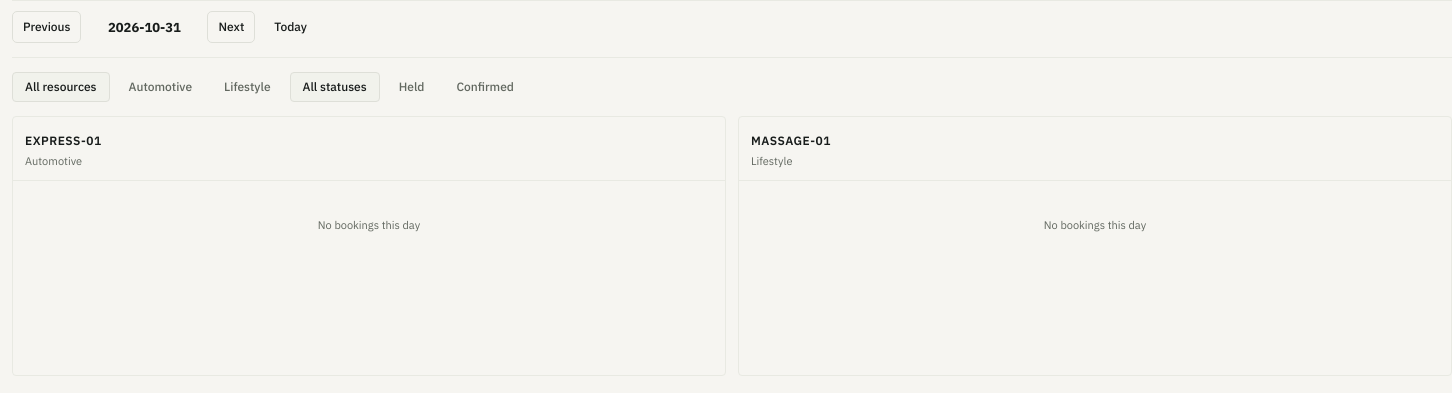
Test: shows idle resources and classifies massage as lifestyle
Expected: the text "EXPRESS-01" is shown, [25,133,102,148]
Expected: the text "No bookings this day" is shown 2 times, [318,218,420,232]; [1044,218,1146,232]
Click the button "Lifestyle" at (247, 87), box [211,72,284,102]
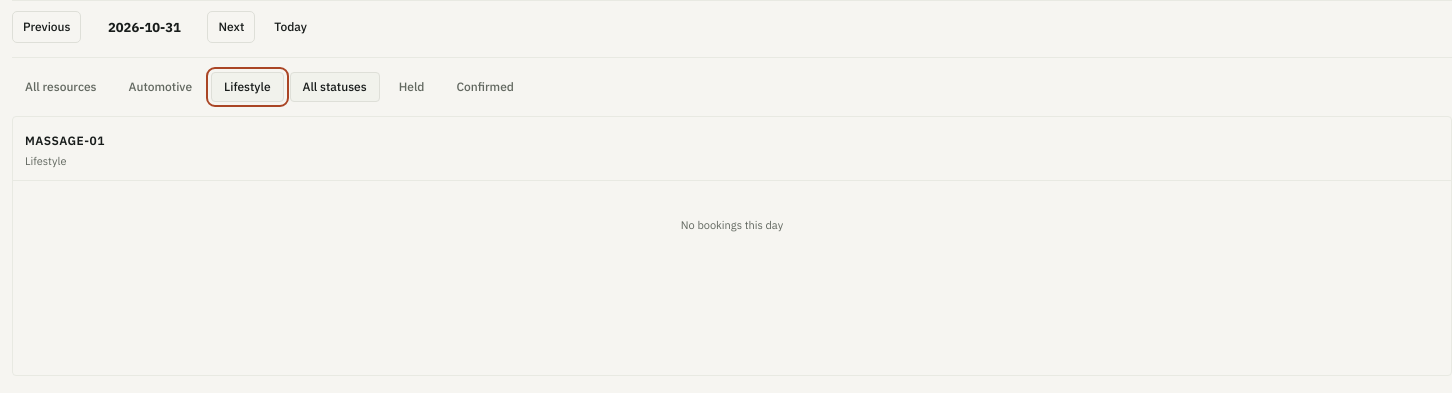
Expected: the text "MASSAGE-01" is shown, [25,133,105,148]
Result: the text "EXPRESS-01" is gone
Click the button "Automotive" at (160, 87), box [116,72,205,102]
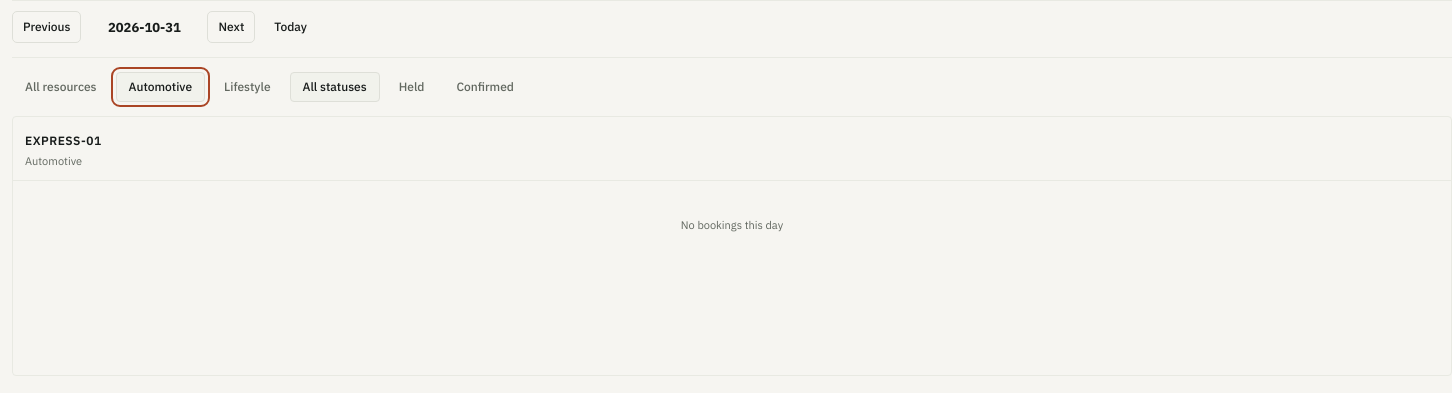
Result: the text "MASSAGE-01" is gone
